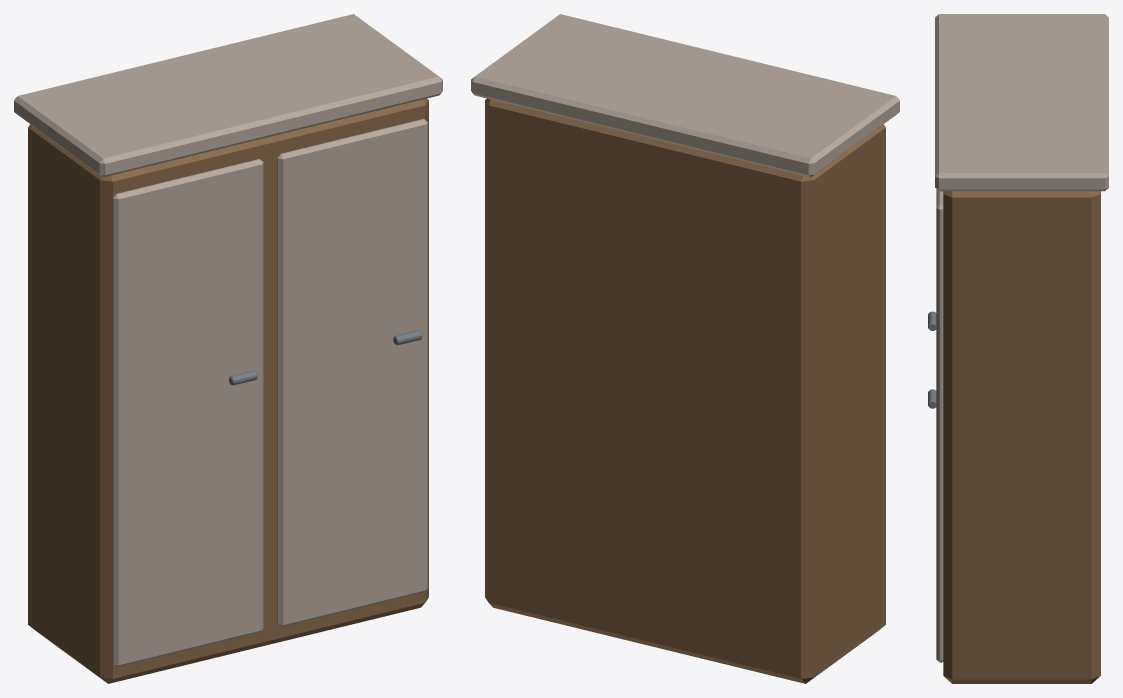
File: wardrobe_storage.glb
3 views of the same model, side by side, from view 1: azimuth 30°, elevation 25°; view 2: azimuth 150°, elevation 25°; view 3: azimuth 270°, elevation 25° (orthographic). The views are drawn at different scales.
Bounding box in the file's own units: 1.9 × 2.82 × 0.8947.
